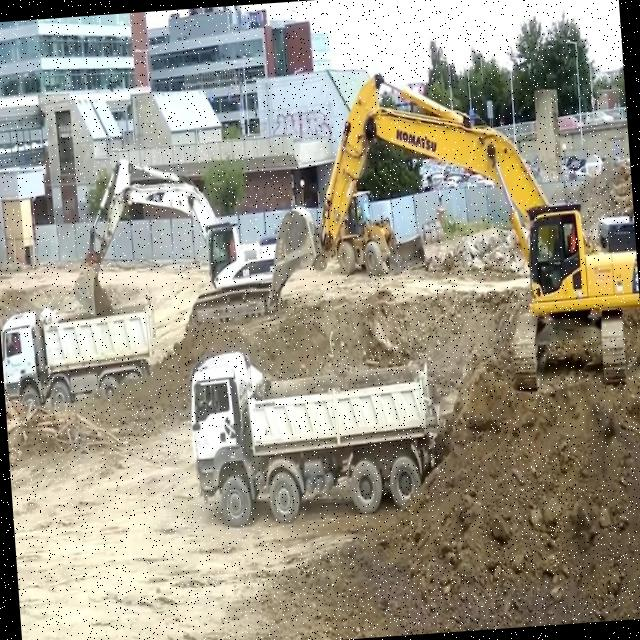Dump Truck: (182, 325, 446, 529), (0, 282, 162, 410)
Excavator: (249, 43, 640, 418), (64, 136, 282, 337)
Loader: (331, 180, 430, 282)
